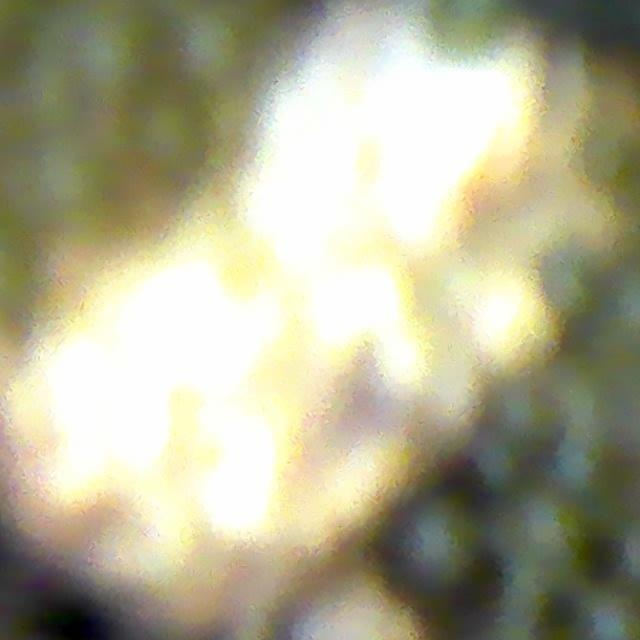SeaGrape: (185, 0, 291, 97), (18, 117, 118, 217), (497, 487, 590, 583), (391, 496, 482, 593), (51, 10, 138, 91)
